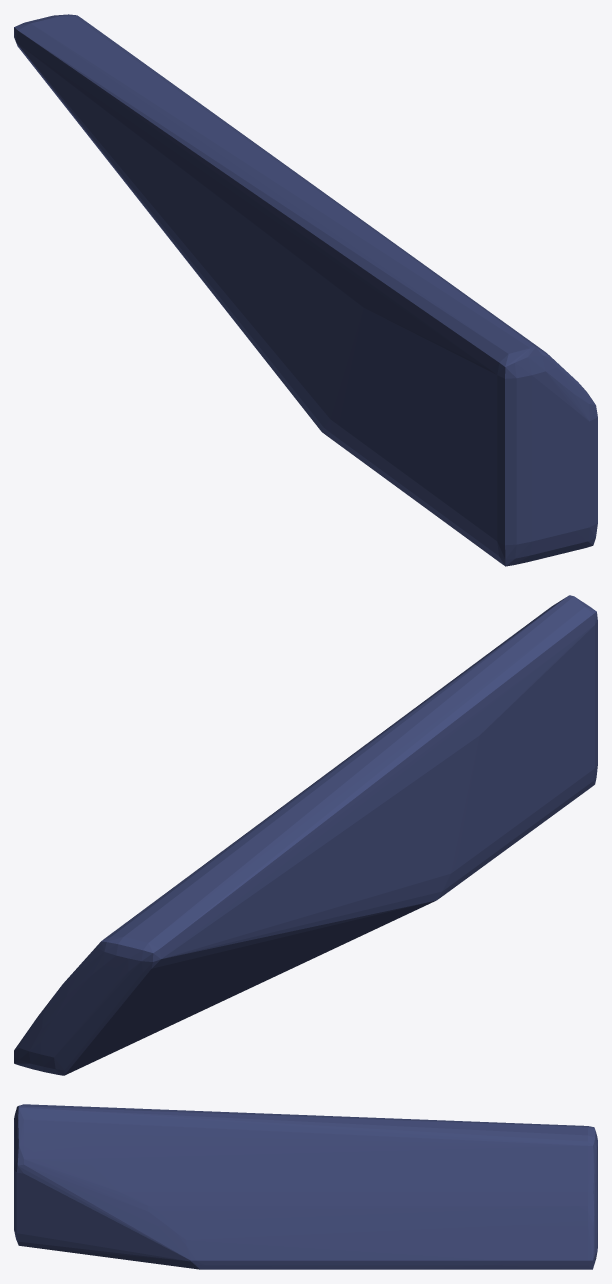
File: right_shoulder_roll_link_part_16.obj
3 views of the same model, one above another, from view 1: azimuth 30°, elevation 25°; view 2: azimuth 150°, elevation 25°; view 3: azimuth 270°, elevation 25° (orthographic). The views are drawn at different scales.
Size of the model in its own units: 0.00891 by 0.0102 by 0.0442.
